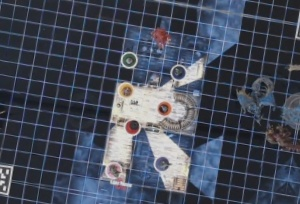blue: (166, 58, 190, 82)
green: (118, 47, 140, 69)
orange: (154, 98, 174, 119)
pink: (102, 158, 125, 182)
red: (122, 115, 144, 138)
violet: (151, 152, 172, 175)
yellow: (116, 78, 135, 97)
